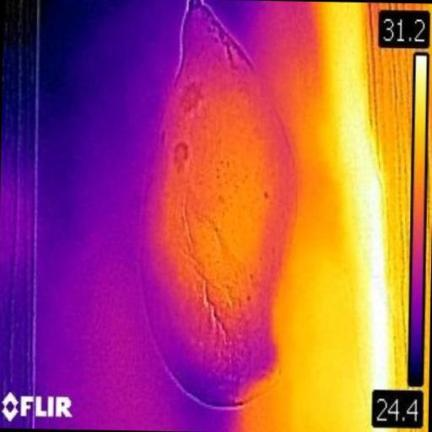mango: (143, 0, 296, 404)
